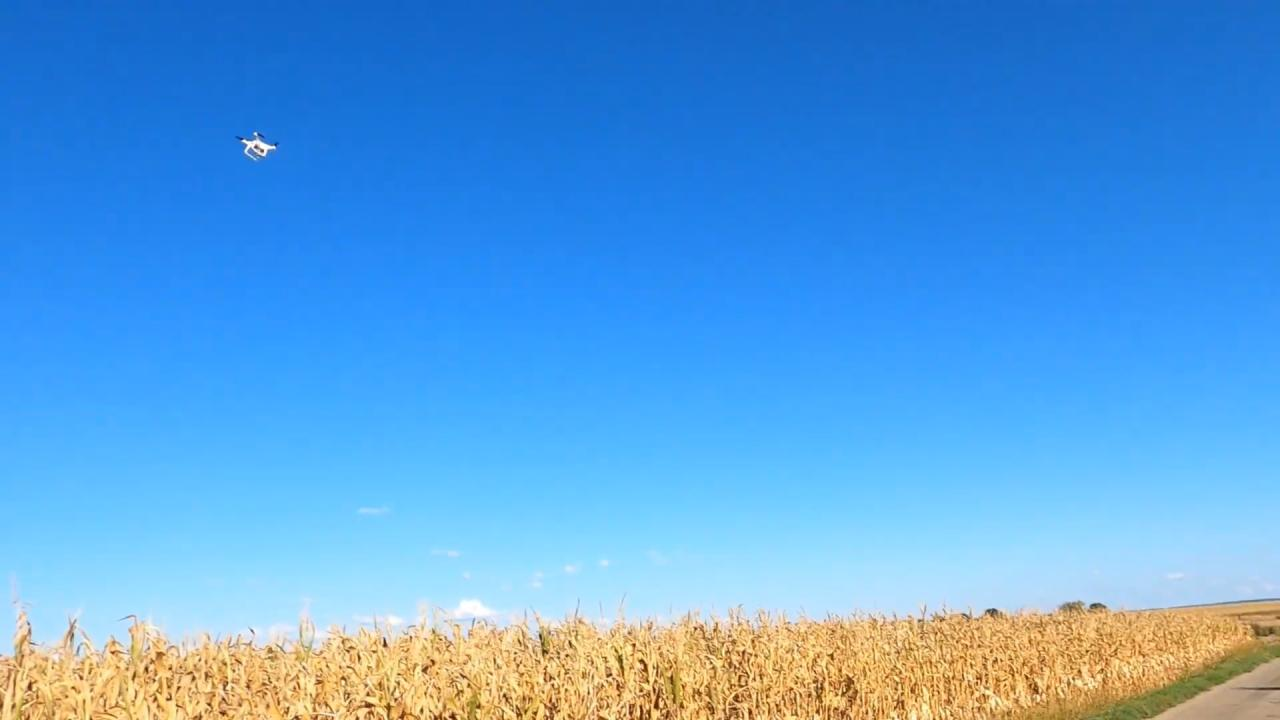Drone: (228, 124, 284, 168)
